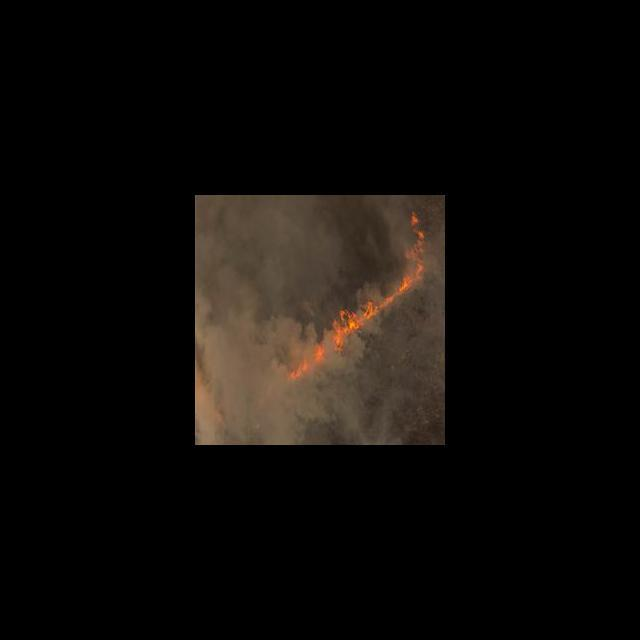Fire: (287, 208, 429, 383)
Smoke: (196, 196, 285, 444)
